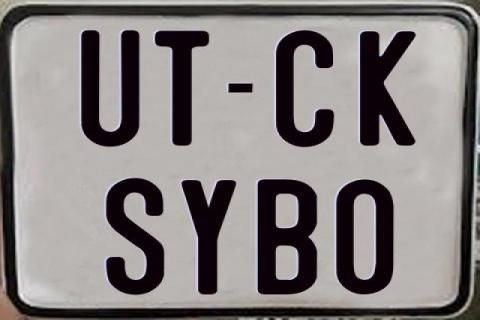0: (333, 179, 393, 297)
B: (256, 178, 315, 296)
C: (273, 30, 336, 150)
K: (360, 29, 421, 147)
S: (105, 178, 166, 300)
T: (153, 29, 211, 148)
U: (80, 31, 144, 150)
Y: (181, 179, 240, 295)
